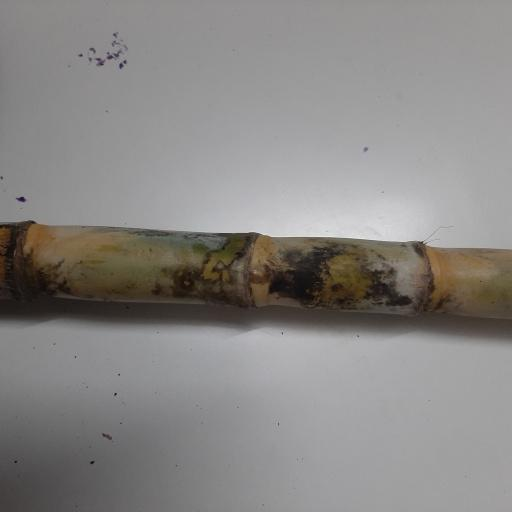Bud: (249, 265, 268, 284)
